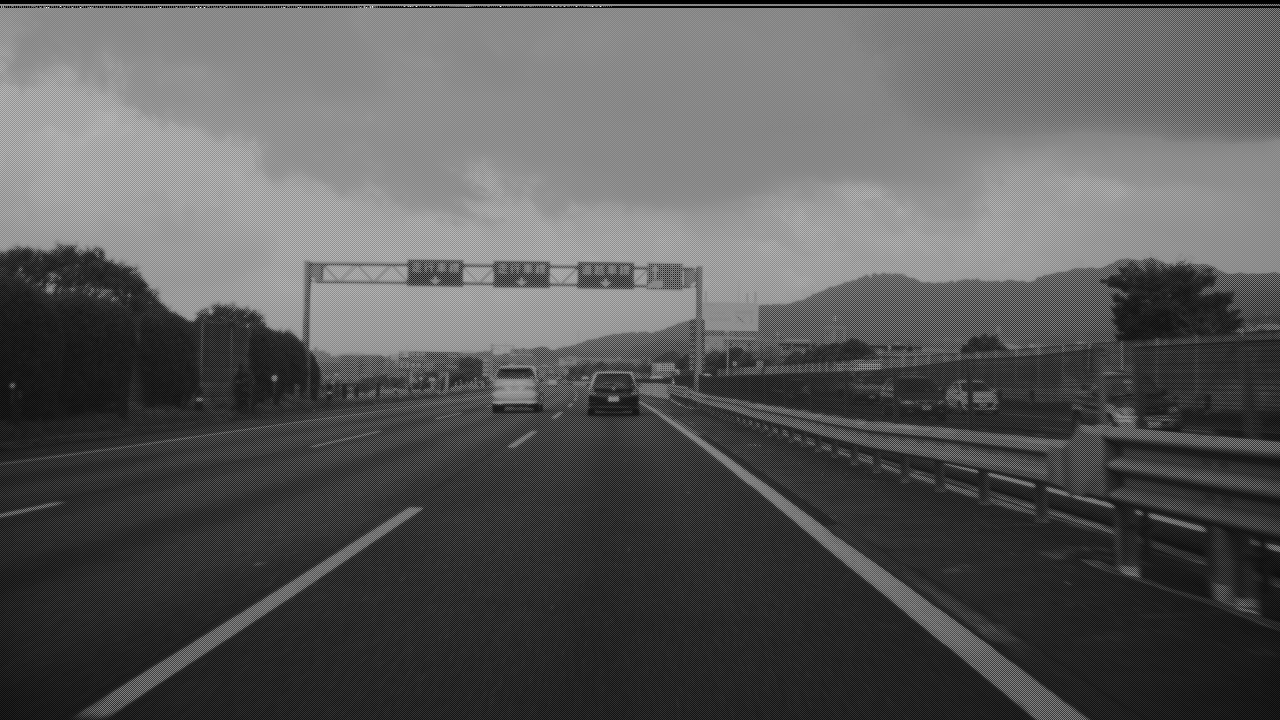pole: (301, 251, 313, 396), (694, 257, 702, 384)
